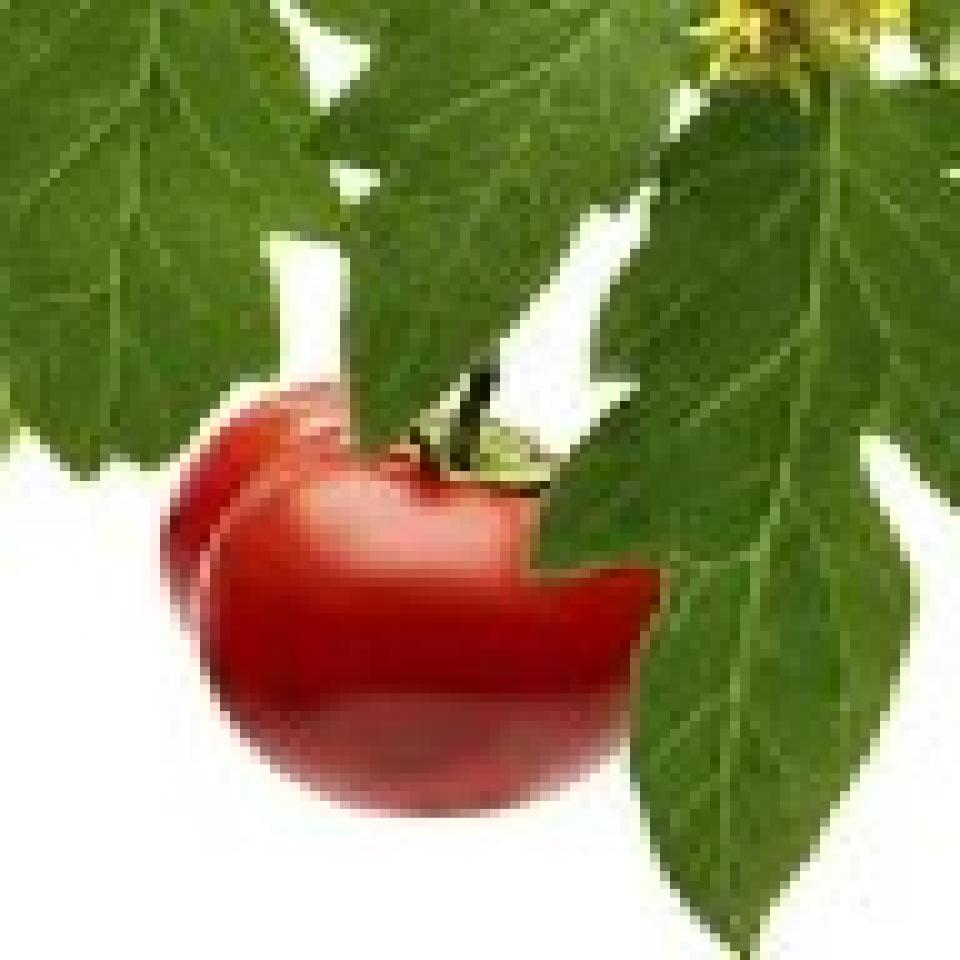Healthy: (170, 370, 688, 823)
